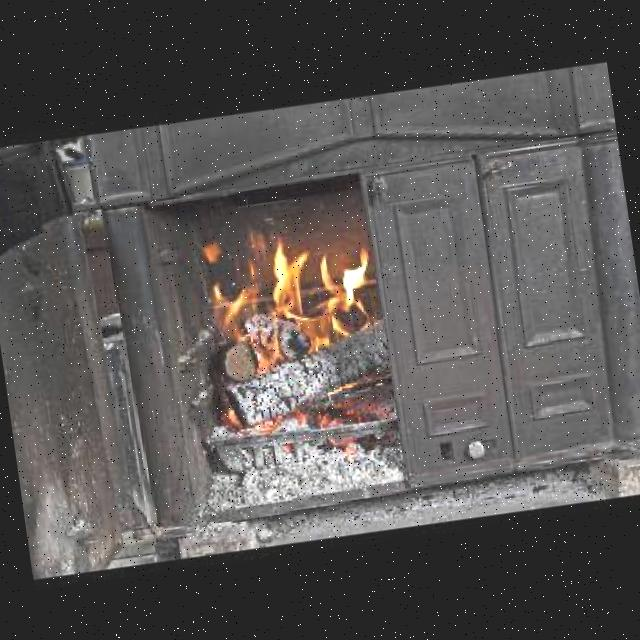fire: (178, 198, 391, 383)
